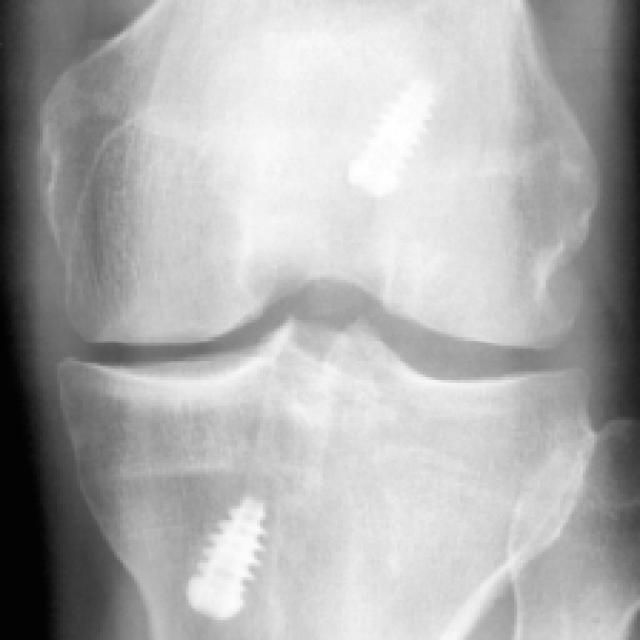femur: (37, 0, 597, 351)
tibia: (56, 316, 597, 640)
